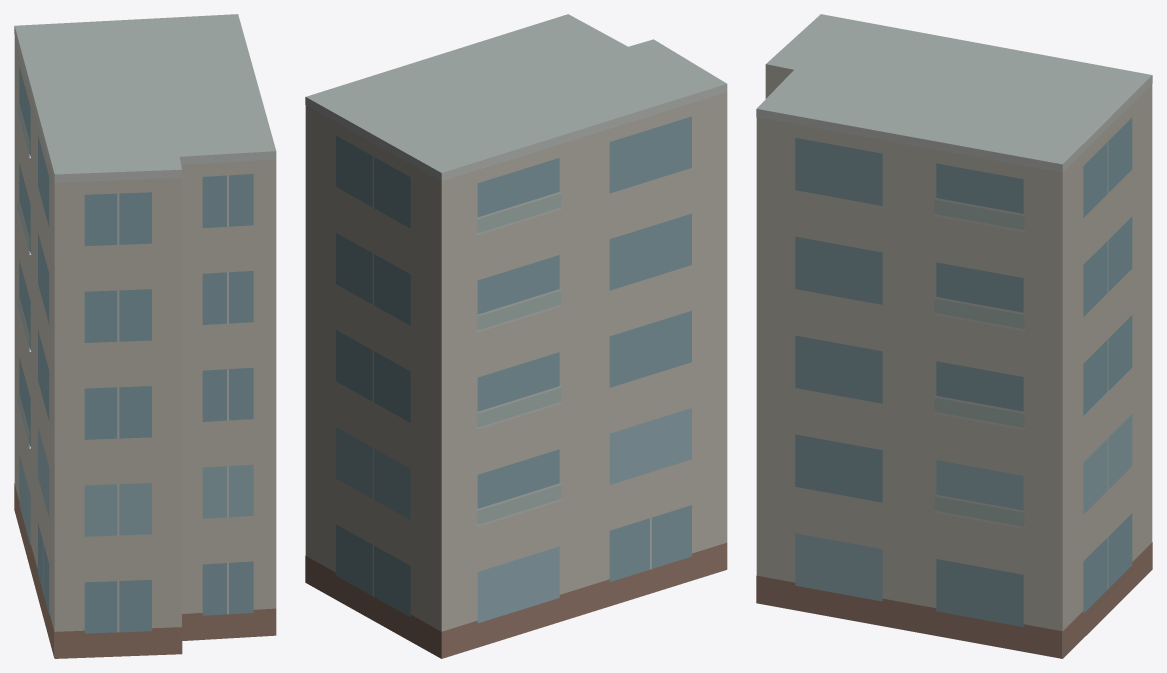
The model's file is survey-upis-32524134.glb.
The picture shows the model from 3 angles, left to right: view 1: azimuth 30°, elevation 25°; view 2: azimuth 150°, elevation 25°; view 3: azimuth 270°, elevation 25°; orthographic projection. The views are drawn at different scales.
Visible parts, largest first — view 1: survey-upis-32524134.tmp; view 2: survey-upis-32524134.tmp; view 3: survey-upis-32524134.tmp.
Part boxes in pixels (left/top/right/bottom): survey-upis-32524134.tmp: left=14, top=14, right=276, bottom=658; survey-upis-32524134.tmp: left=305, top=14, right=727, bottom=658; survey-upis-32524134.tmp: left=756, top=14, right=1152, bottom=658.
Bounding box in the file's own units: 9.34 × 14.3 × 10.39.
